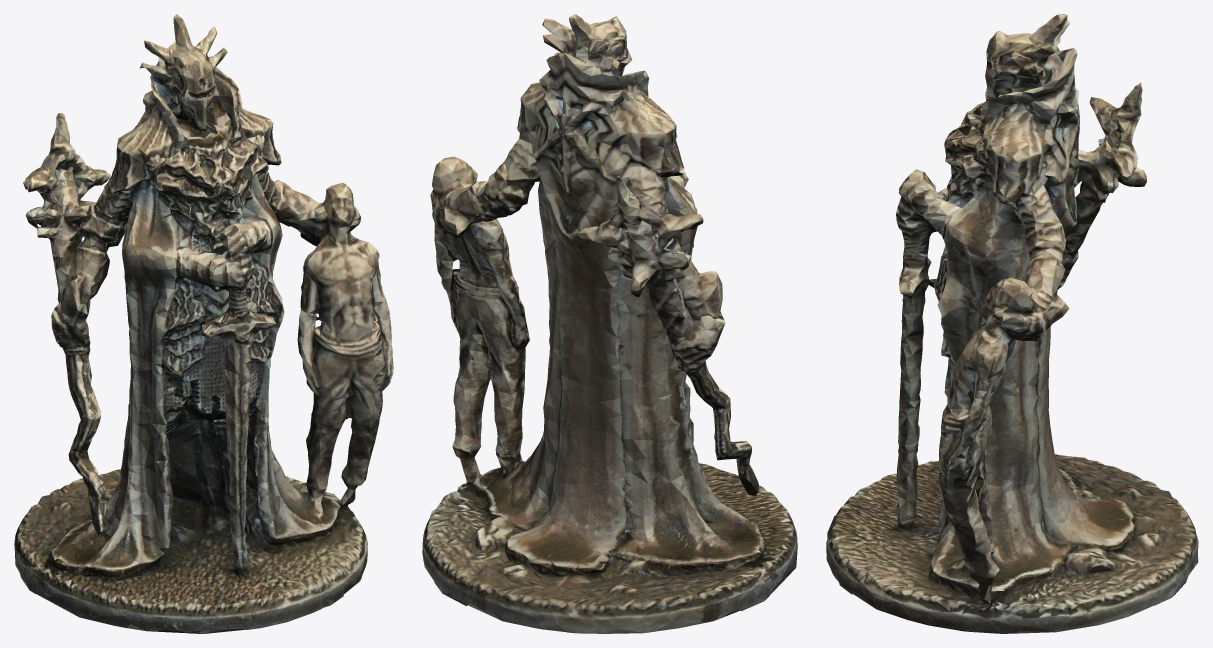
Rendered from reclaimer.glb.
3 renders of one model, left to right at view 1: azimuth 30°, elevation 25°; view 2: azimuth 150°, elevation 25°; view 3: azimuth 270°, elevation 25°, orthographic. The views are drawn at different scales.
Parts seen in each view (by area): view 1: geometry_0; view 2: geometry_0; view 3: geometry_0.
Boxes of the visible parts, <box> form: geometry_0: <box>14,14,393,633</box>; geometry_0: <box>422,14,797,633</box>; geometry_0: <box>826,14,1198,633</box>.
Bounding box in the file's own units: 0.023 × 0.0345 × 0.0213.
1 material, 1 textured.
